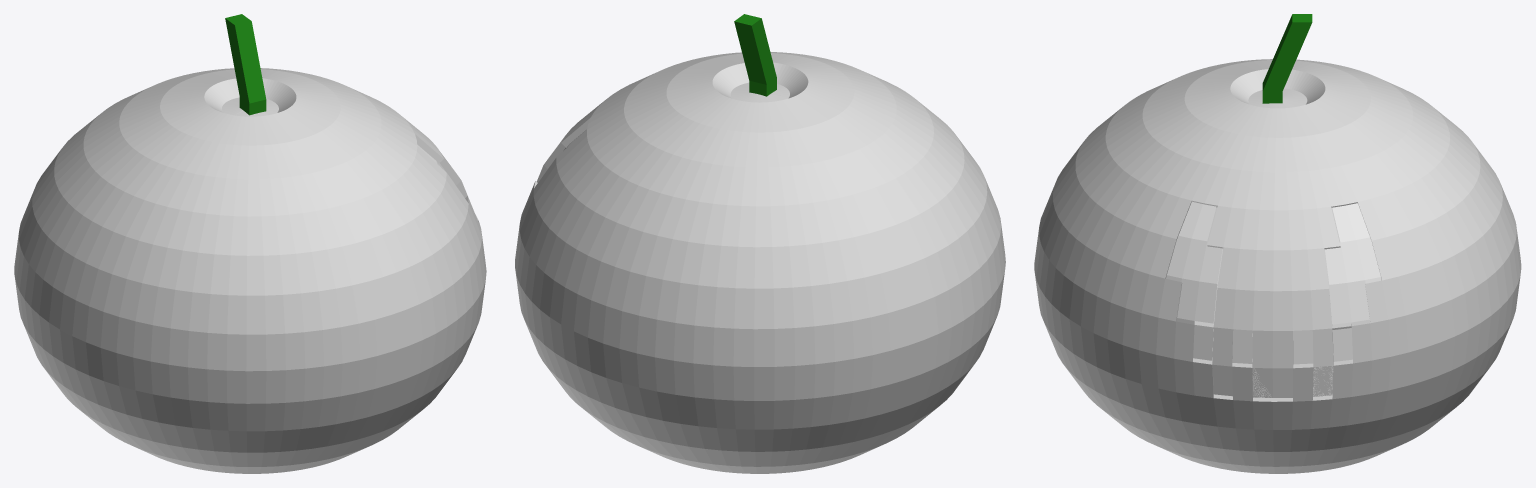
Rendered from Pumpkin.fbx.
The picture shows the model from 3 angles, left to right: view 1: azimuth 30°, elevation 25°; view 2: azimuth 150°, elevation 25°; view 3: azimuth 270°, elevation 25°; orthographic projection. The views are drawn at different scales.
Parts seen in each view (by area): view 1: Sphere.001, Cube; view 2: Sphere.001, Cube; view 3: Sphere.001, Sphere, Cube.
Part boxes in pixels (bbox=[...]): Sphere.001: bbox=[14, 68, 486, 473]; Cube: bbox=[225, 14, 266, 115]; Sphere.001: bbox=[515, 52, 1005, 473]; Cube: bbox=[734, 14, 776, 96]; Sphere.001: bbox=[1034, 59, 1521, 473]; Sphere: bbox=[1166, 201, 1380, 397]; Cube: bbox=[1262, 14, 1312, 103].
Bounding box in the file's own units: 200 × 197 × 202.
